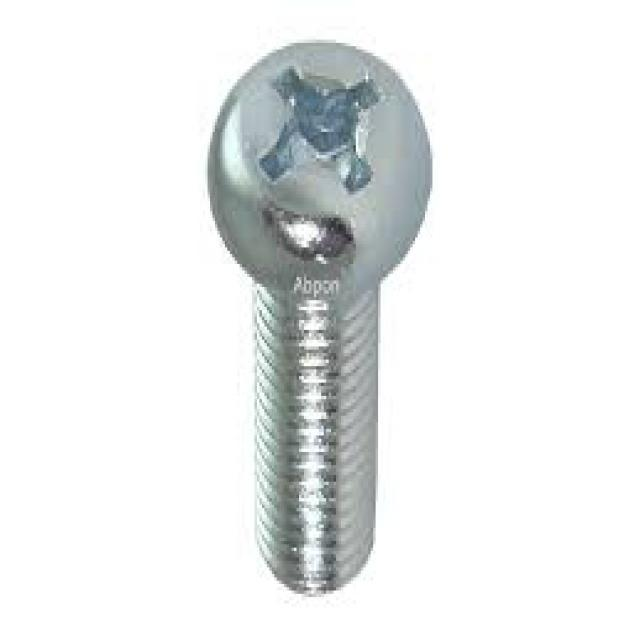Dry Waste: (153, 5, 480, 625)
